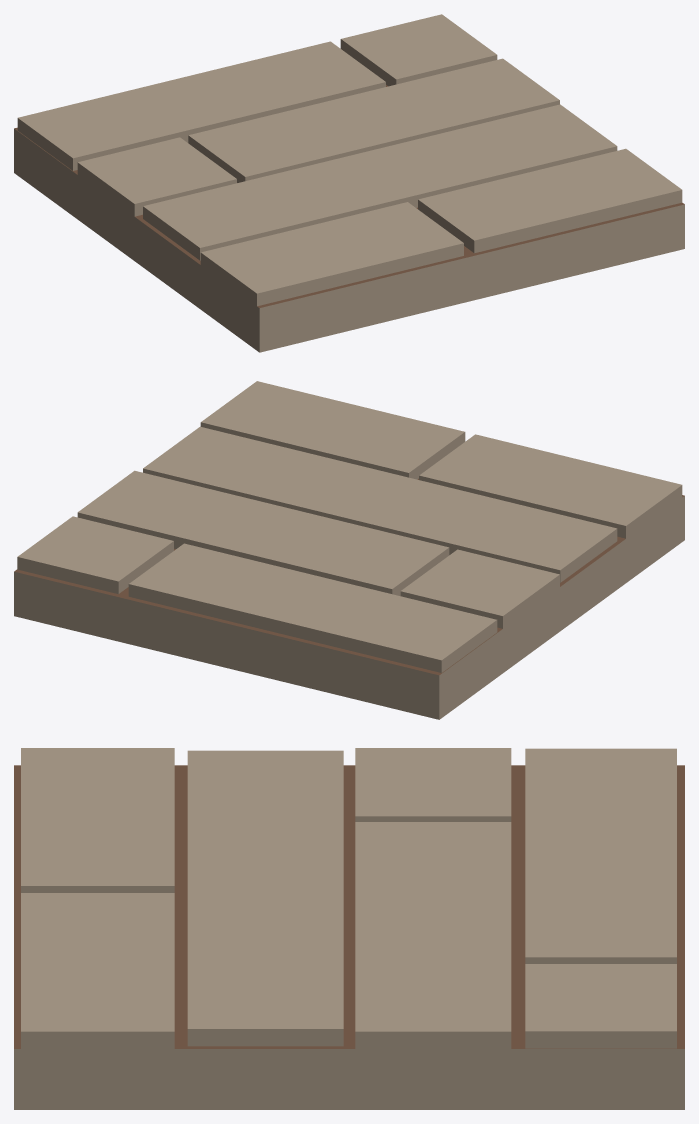
File: Mesh_GroundPlanks_01.fbx
3 renders of one model, top to bottom at view 1: azimuth 30°, elevation 25°; view 2: azimuth 150°, elevation 25°; view 3: azimuth 270°, elevation 25°, orthographic. The views are drawn at different scales.
Parts seen in each view (by area): view 1: Mesh_GroundPlanks_01; view 2: Mesh_GroundPlanks_01; view 3: Mesh_GroundPlanks_01.
Part boxes in pixels (bbox=[...]): Mesh_GroundPlanks_01: bbox=[14, 14, 684, 352]; Mesh_GroundPlanks_01: bbox=[14, 381, 684, 719]; Mesh_GroundPlanks_01: bbox=[14, 748, 684, 1109].
Size of the model in its own units: 1 by 0.1285 by 1.
